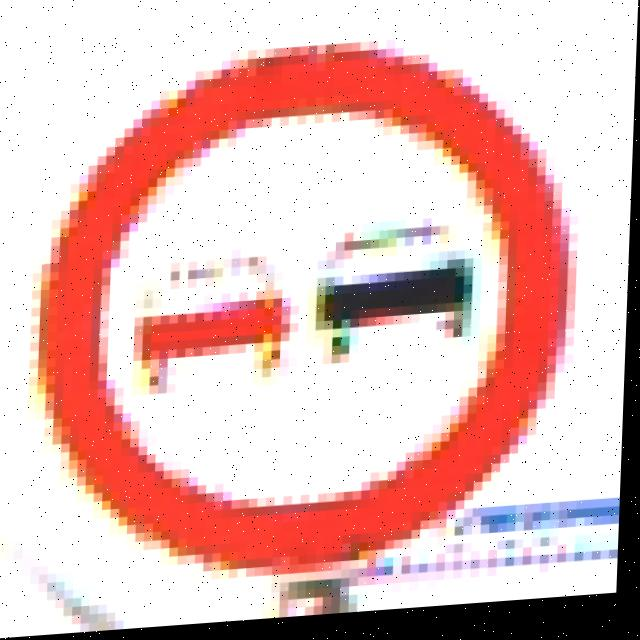no_overtaking: (25, 41, 566, 566)
